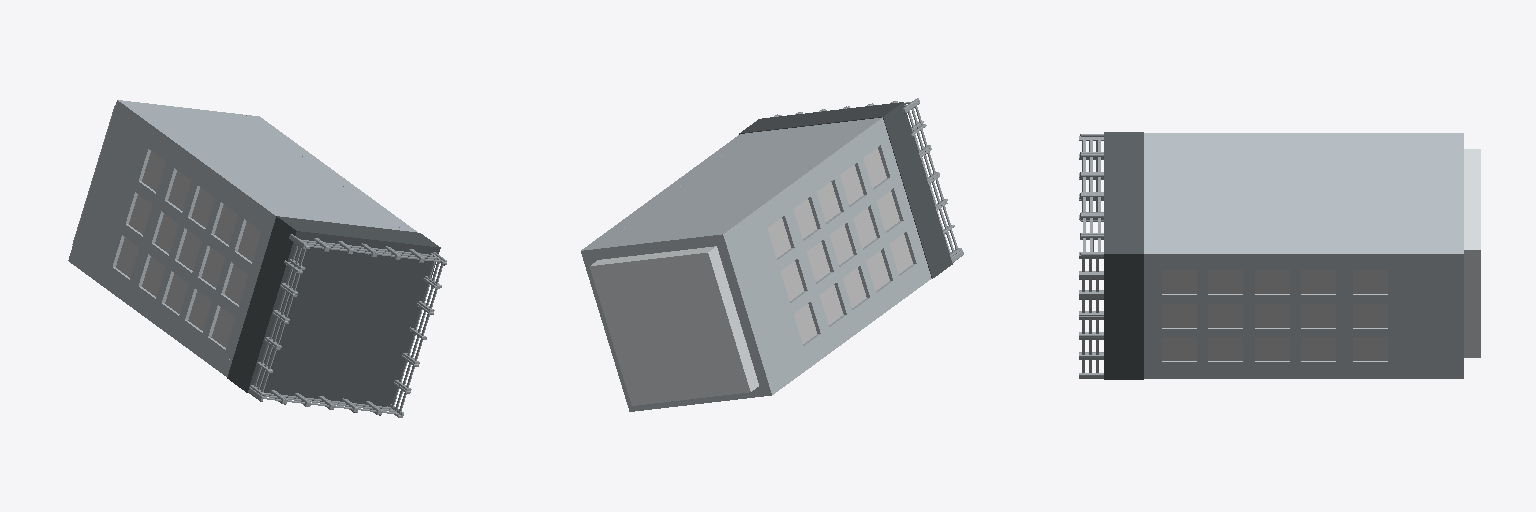
Rendered from tinker 3.obj.
3 renders of one model, left to right at view 1: azimuth 30°, elevation 25°; view 2: azimuth 150°, elevation 25°; view 3: azimuth 270°, elevation 25°, orthographic.
Visible parts, largest first — view 1: obj_0; view 2: obj_0; view 3: obj_0.
Boxes of the visible parts, <box> form: obj_0: <box>68,100,446,417</box>; obj_0: <box>581,98,963,411</box>; obj_0: <box>1079,132,1480,379</box>.
Bounding box in the file's own units: 10.45 × 10.44 × 18.82.